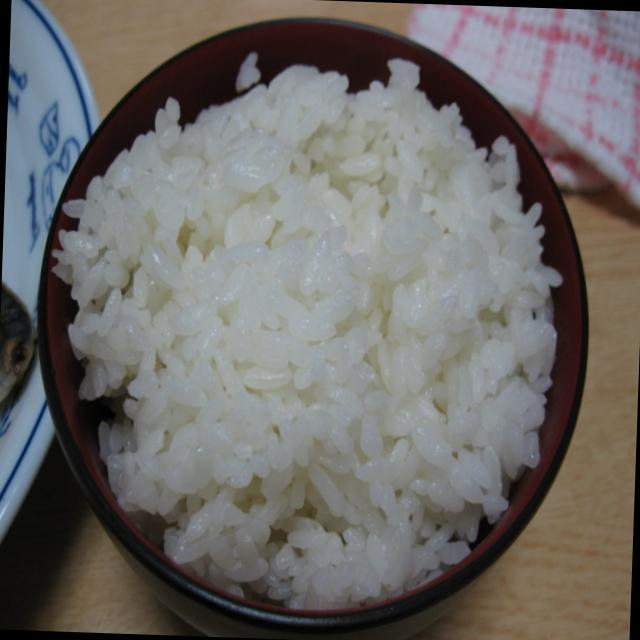Rice: (32, 48, 574, 627)
